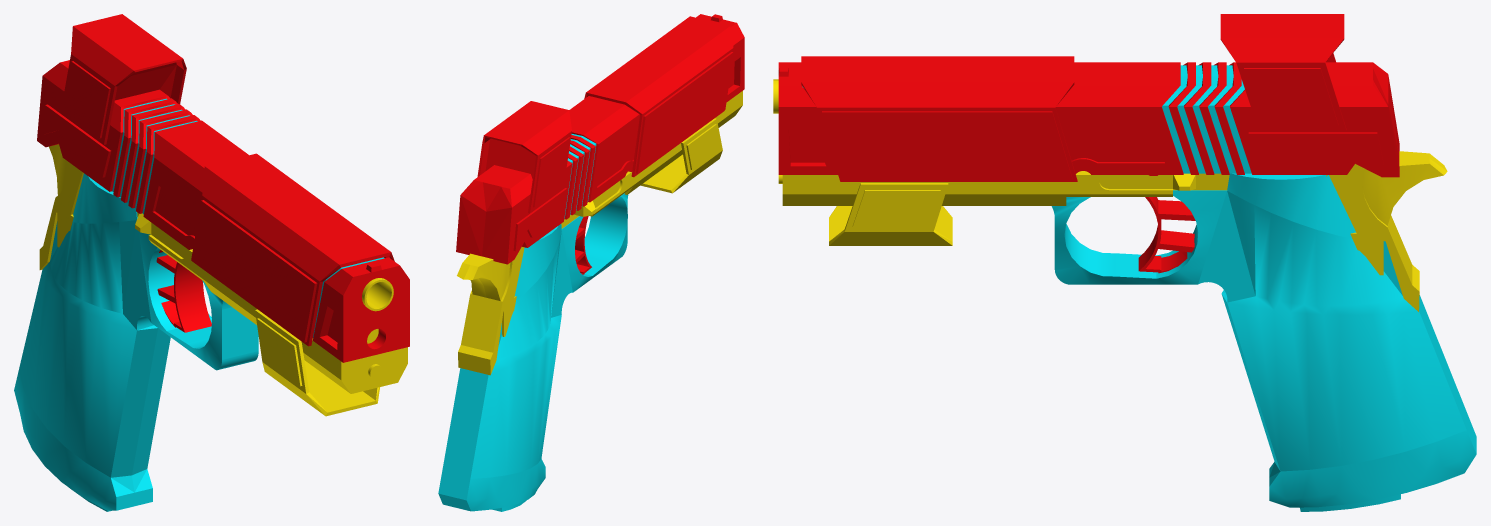
Rendered from player_gun.fbx.
3 views of the same model, side by side, from view 1: azimuth 30°, elevation 25°; view 2: azimuth 150°, elevation 25°; view 3: azimuth 270°, elevation 25° (orthographic). The views are drawn at different scales.
Visible parts, largest first — view 1: Model; view 2: Model; view 3: Model.
Boxes of the visible parts, box(x1,y1,x2,y2) form: Model: box(14, 14, 409, 511); Model: box(438, 14, 744, 511); Model: box(773, 14, 1476, 511).
Size of the model in its own units: 12.66 by 70.91 by 94.19.
